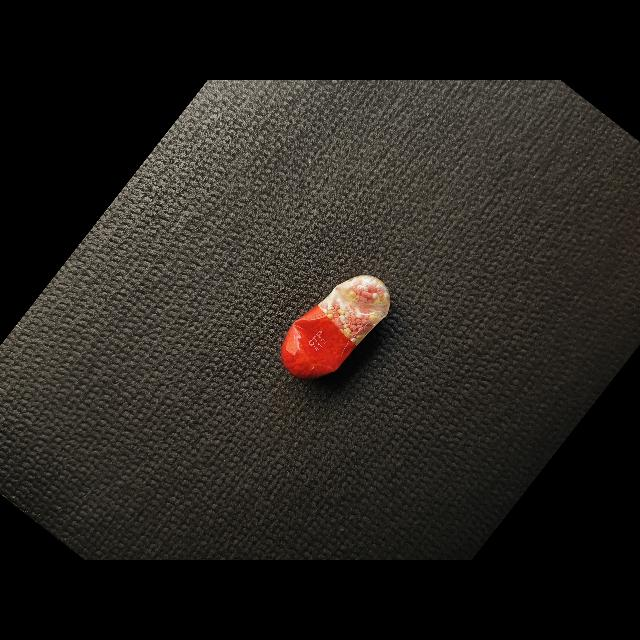Defective Capsule: (281, 275, 390, 379)
